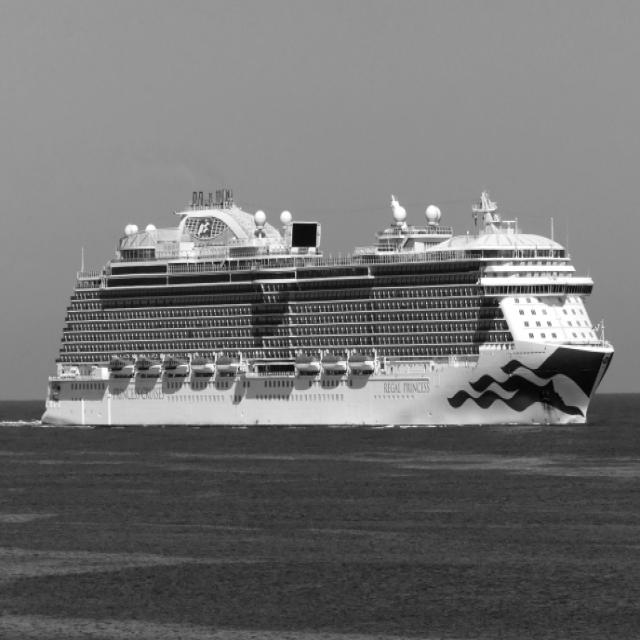cruises: (36, 160, 626, 451)
